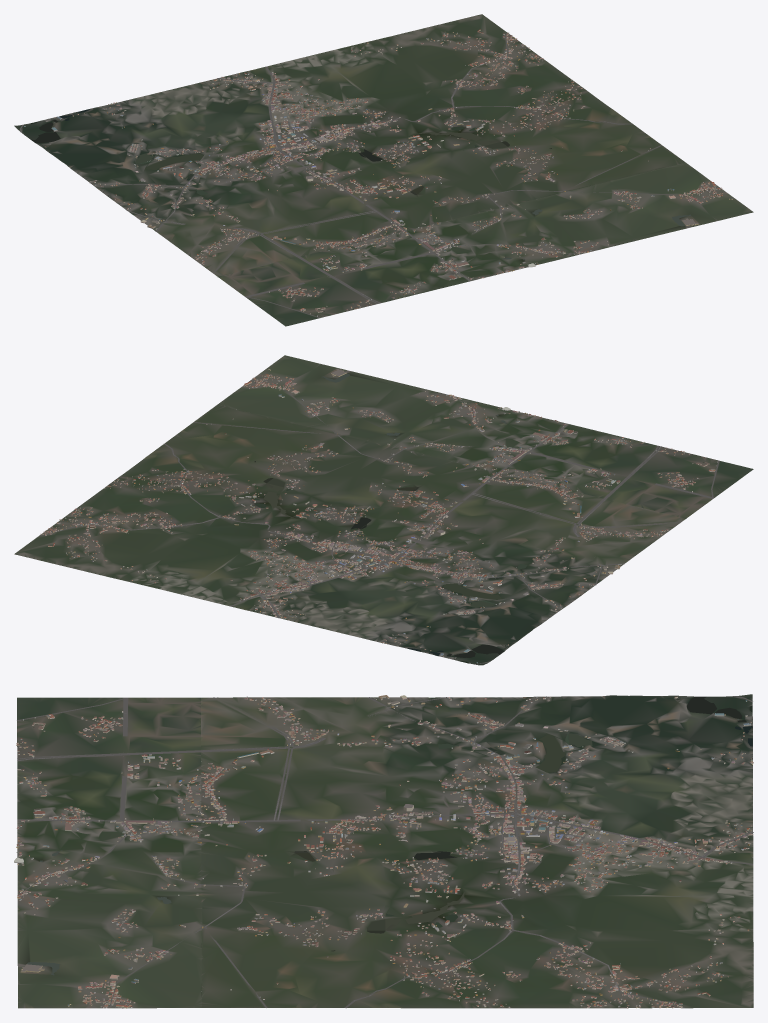
The picture shows the model from 3 angles, top to bottom: view 1: azimuth 30°, elevation 25°; view 2: azimuth 150°, elevation 25°; view 3: azimuth 270°, elevation 25°; orthographic projection. The views are drawn at different scales.
Parts seen in each view (by area): view 1: ground, buildings, roads, water; view 2: ground, buildings, roads, water; view 3: ground, buildings, roads, water.
Boxes of the visible parts, x1,y1,x2,y2 form: ground: (14, 14, 753, 326); buildings: (24, 29, 732, 316); roads: (20, 32, 717, 317); water: (25, 109, 690, 311); ground: (14, 355, 753, 665); buildings: (40, 368, 717, 663); roads: (39, 380, 719, 664); water: (251, 373, 703, 663); ground: (17, 694, 753, 1008); buildings: (14, 695, 753, 1008); roads: (17, 696, 753, 1008); water: (27, 696, 752, 975).
Bounding box in the file's own units: 5622 × 41.31 × 5640.
